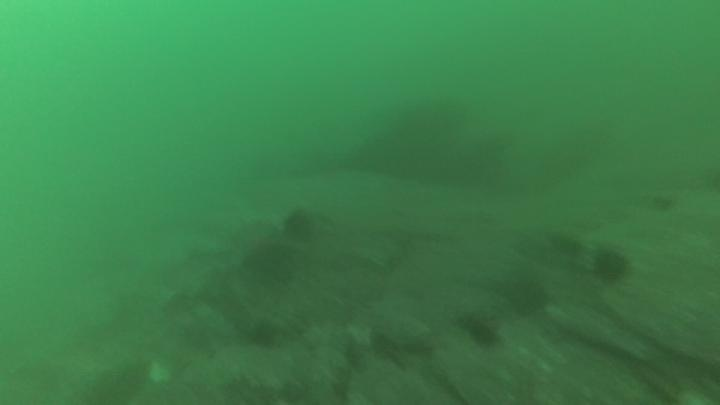echinus: (244, 239, 300, 288), (502, 275, 551, 319), (457, 311, 502, 350), (590, 245, 632, 285), (280, 206, 319, 245), (545, 229, 585, 260), (246, 317, 282, 351)
